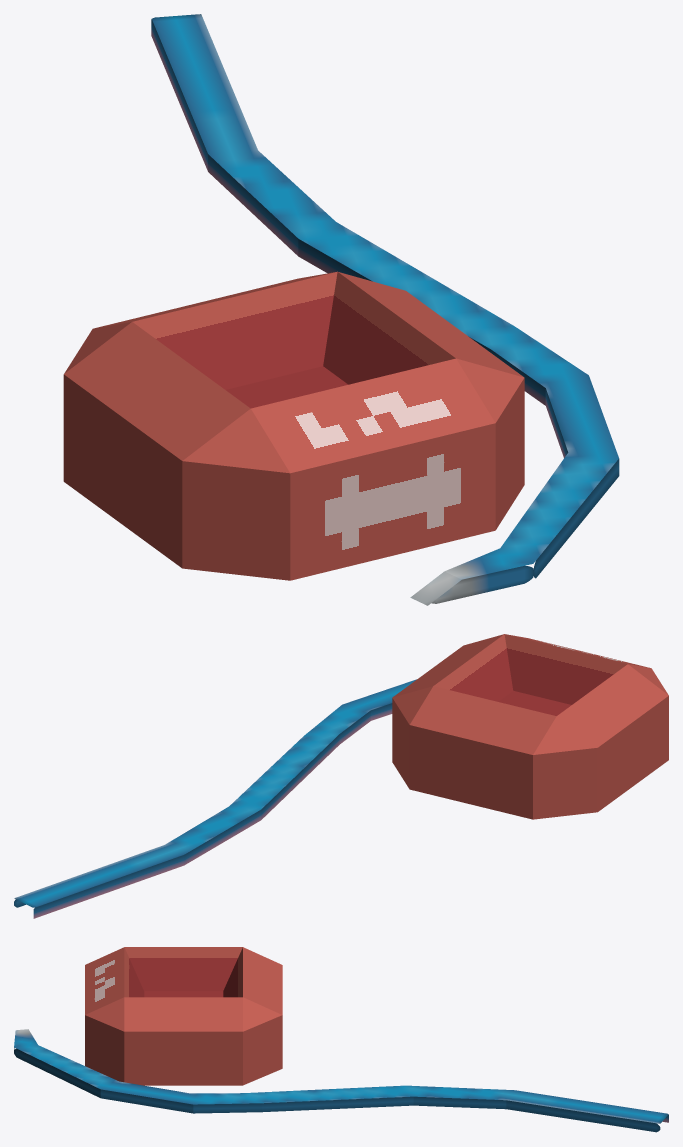
Rendered from Leash.fbx.
3 views of the same model, one above another, from view 1: azimuth 30°, elevation 25°; view 2: azimuth 150°, elevation 25°; view 3: azimuth 270°, elevation 25° (orthographic). The views are drawn at different scales.
Visible parts, largest first — view 1: DogBowl, Leash; view 2: DogBowl, Leash; view 3: DogBowl, Leash.
Part boxes in pixels (box(x1,y1,x2,y2)): DogBowl: box(63, 271, 524, 580); Leash: box(151, 14, 619, 605); DogBowl: box(392, 634, 668, 819); Leash: box(14, 679, 416, 918); DogBowl: box(85, 947, 282, 1085); Leash: box(14, 1029, 668, 1132).
Bounding box in the file's own units: 101 × 25.23 × 207.
4 materials, 4 textured.
